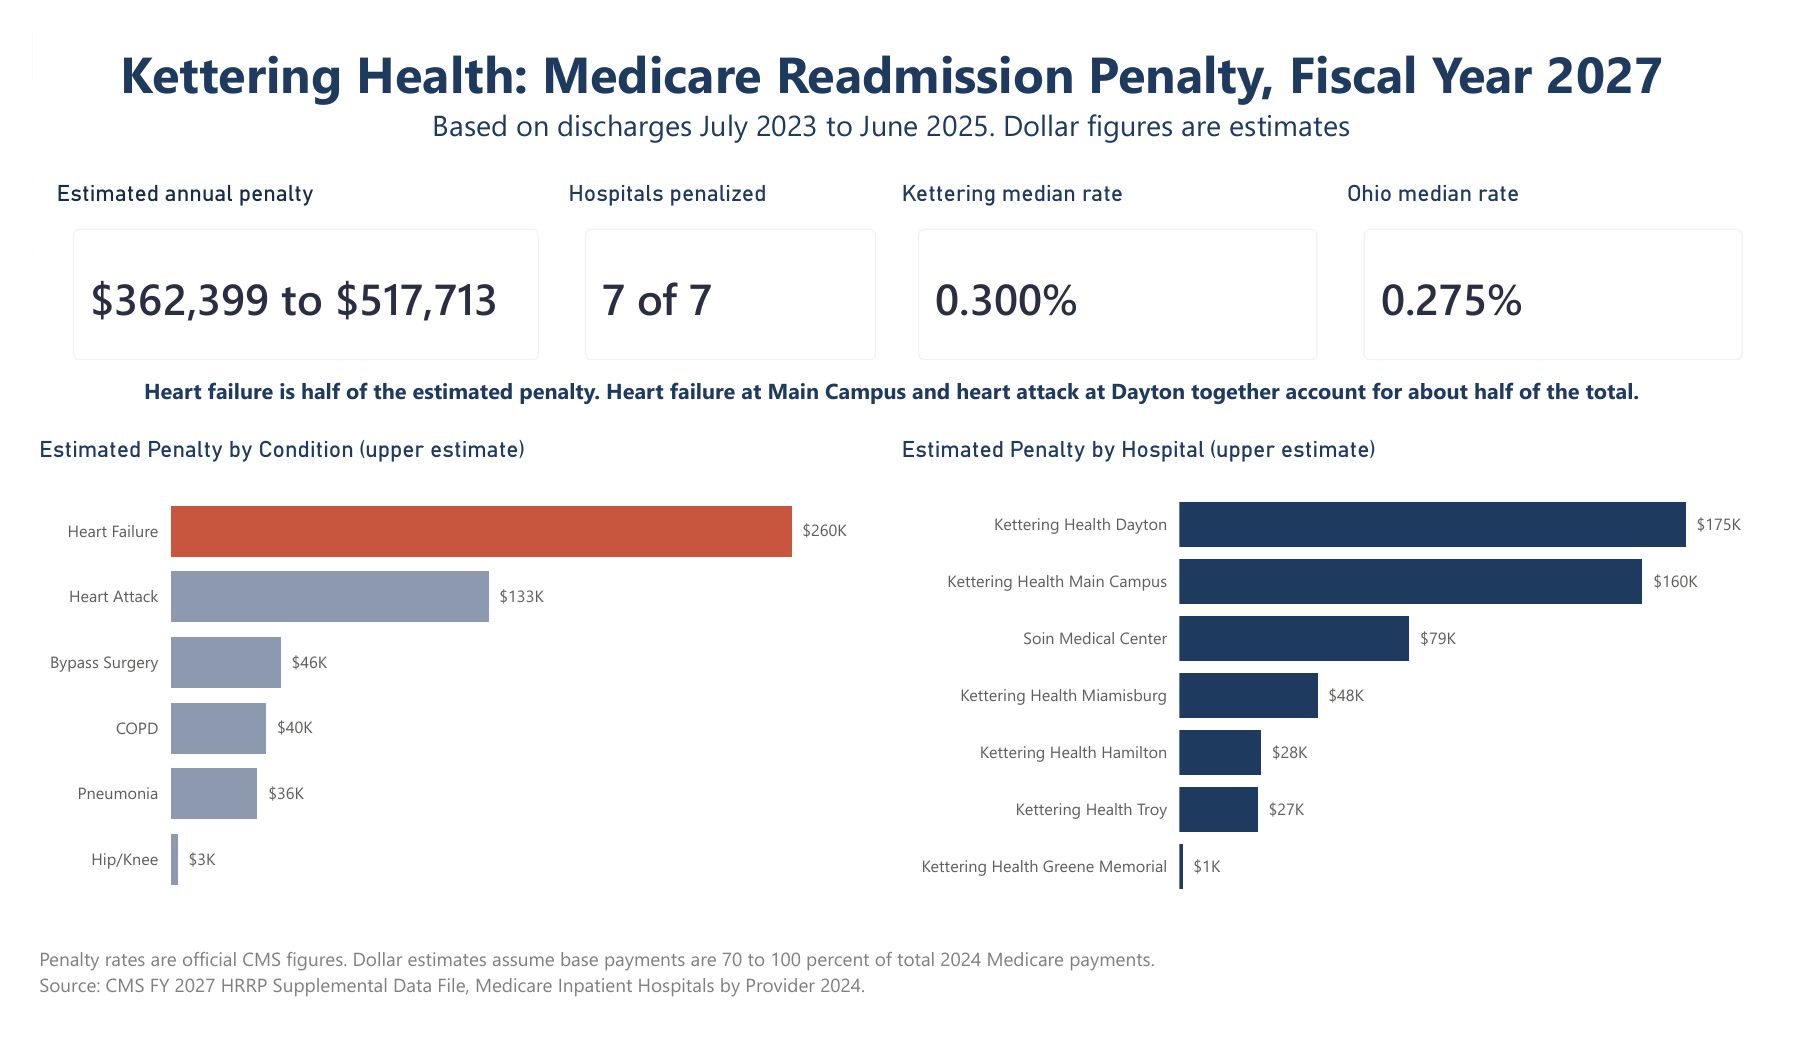

What the dashboard file says about the page in this screenshot:
{"tool":"powerbi","page":{"name":"Executive Overview","canvas":[1280,720],"ordinal":0},"visuals":[{"type":"cardVisual","title":"Estimated annual penalty","fields":{"Data":["_measures.Estimated Penalty Range"]},"box":[12.9,108.6,378.6,150],"z":0},{"type":"cardVisual","title":"Hospitals penalized","fields":{"Data":["_measures.Hospitals Penalized Label"]},"box":[391.4,108.6,248.6,150],"z":1000},{"type":"cardVisual","title":"Ohio median rate","fields":{"Data":["_measures.Ohio Median Penalty Rate"]},"box":[965.7,108.6,314.3,150],"z":2000},{"type":"cardVisual","title":"Kettering median rate","fields":{"Data":["_measures.Median Penalty Rate"]},"box":[637.1,108.6,328.6,150],"z":3000},{"type":"clusteredBarChart","title":"Estimated Penalty by Condition (upper estimate)","fields":{"Category":["dim_condition.condition_short"],"Y":["_measures.Condition Dollars High"]},"box":[0,298.2,637.3,357.3],"z":4000},{"type":"textbox","box":[0,0,1268.6,108.6],"z":5000},{"type":"clusteredBarChart","title":"Estimated Penalty by Hospital (upper estimate)","fields":{"Category":["dim_hospital.display_name"],"Y":["_measures.Estimated Penalty High"]},"box":[637.3,298.2,642.7,357.3],"z":6000},{"type":"textbox","box":[0,670,1280,50],"z":7000},{"type":"textbox","box":[0,248.6,1268.6,38.6],"z":8000}]}

Visuals, with their boxes in screenshot pixels (x1, y1, x2, y2), scaled from the page's 1280x720 canvas onto the 1799x1040 screenshot:
"Estimated annual penalty" cardVisual: <region>18, 157, 550, 374</region>
"Hospitals penalized" cardVisual: <region>550, 157, 900, 374</region>
"Ohio median rate" cardVisual: <region>1357, 157, 1798, 374</region>
"Kettering median rate" cardVisual: <region>895, 157, 1357, 374</region>
"Estimated Penalty by Condition (upper estimate)" clusteredBarChart: <region>0, 431, 896, 947</region>
textbox: <region>0, 0, 1783, 157</region>
"Estimated Penalty by Hospital (upper estimate)" clusteredBarChart: <region>896, 431, 1798, 947</region>
textbox: <region>0, 968, 1798, 1039</region>
textbox: <region>0, 359, 1783, 415</region>
